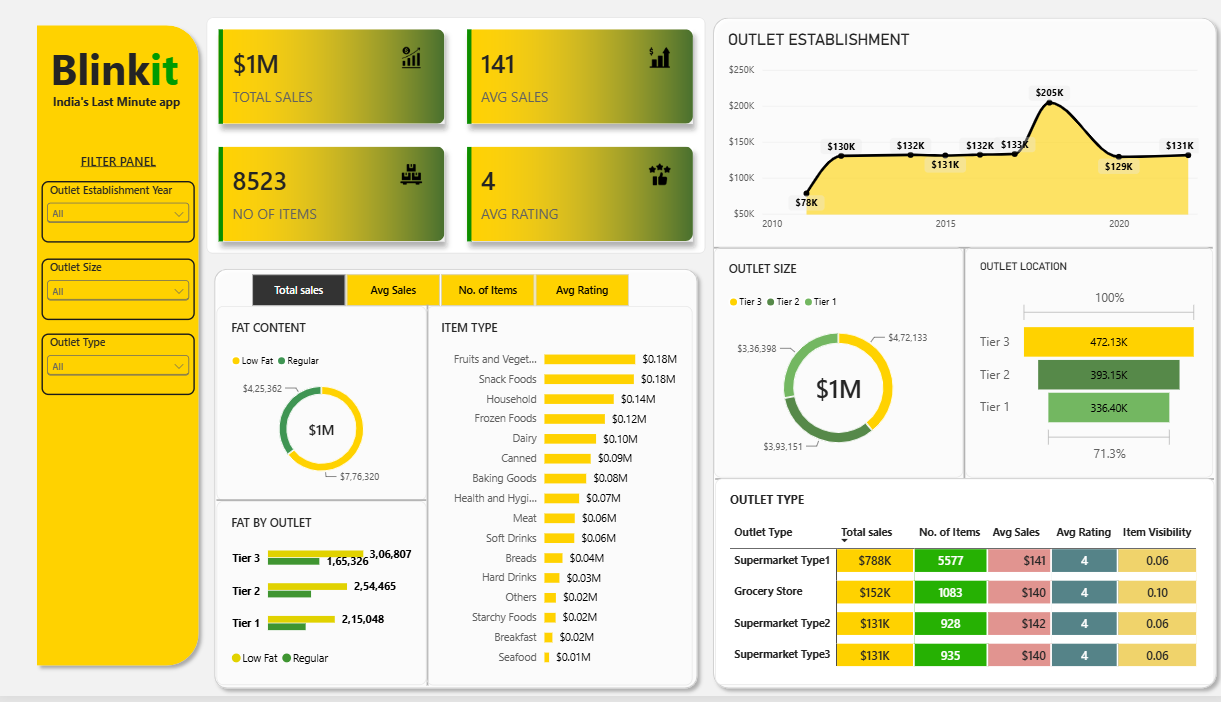

The dashboard page shown, as its layout file describes it:
{"tool":"powerbi","page":{"name":"Page 1","canvas":[1400,800],"ordinal":0},"visuals":[{"type":"shape","box":[34.3,24.3,202.9,750],"z":0},{"type":"textbox","box":[58.8,49.4,153.8,71.9],"z":1000},{"type":"textbox","box":[61.9,110.6,146.9,21.2],"z":2000},{"type":"cardVisual","fields":{"Data":["BlinkIT Grocery Data.Total sales","BlinkIT Grocery Data.Avg Sales","BlinkIT Grocery Data.No. of Items","BlinkIT Grocery Data.Avg Rating"]},"box":[236.7,24.4,570,270],"z":3000},{"type":"shape","box":[237.5,302.5,570,497.5],"z":4000},{"type":"donutChart","title":"FAT CONTENT","fields":{"Category":["BlinkIT Grocery Data.Item Fat Content"],"Y":["BlinkIT Grocery Data.Total sales"]},"box":[248.8,355,240,222.5],"z":5000},{"type":"slicer","fields":{"Values":["Metrics.Metrics"]},"box":[269,315,470,40],"z":6000},{"type":"clusteredBarChart","title":"FAT BY OUTLET","fields":{"Category":["BlinkIT Grocery Data.Outlet Location Type"],"Series":["BlinkIT Grocery Data.Item Fat Content"],"Y":["BlinkIT Grocery Data.Total sales"]},"box":[248.8,577.5,240,210],"z":7000},{"type":"shape","box":[248.9,570,240,12.2],"z":8000},{"type":"shape","box":[485,353,8,435],"z":9000},{"type":"barChart","title":"ITEM TYPE","fields":{"Category":["BlinkIT Grocery Data.Item Type"],"Y":["BlinkIT Grocery Data.Total sales"]},"box":[488.8,353.8,303.8,433.8],"z":10000},{"type":"shape","box":[806.7,15.6,593.3,784.4],"z":11000},{"type":"lineChart","title":"OUTLET ESTABLISHMENT","fields":{"Category":["BlinkIT Grocery Data.Outlet Establishment Year"],"Y":["BlinkIT Grocery Data.Total sales"]},"box":[817.5,24.4,570,263.1],"z":12000},{"type":"shape","box":[817.5,281.7,570,12.5],"z":13000},{"type":"donutChart","title":"OUTLET SIZE","fields":{"Category":["BlinkIT Grocery Data.Outlet Location Type"],"Y":["BlinkIT Grocery Data.Total sales"]},"box":[817.8,287.8,284.4,263.3],"z":14000},{"type":"shape","box":[1096.9,288.1,12.4,262.9],"z":15000},{"type":"funnel","title":"OUTLET LOCATION","fields":{"Category":["BlinkIT Grocery Data.Outlet Location Type"],"Y":["Sum(BlinkIT Grocery Data.Sales)"]},"box":[1104.4,287.8,283.3,263.3],"z":15001},{"type":"shape","box":[818.9,545.6,570,12.5],"z":15002},{"type":"pivotTable","title":"OUTLET TYPE","fields":{"Rows":["BlinkIT Grocery Data.Outlet Type"],"Values":["BlinkIT Grocery Data.Total sales","BlinkIT Grocery Data.No. of Items","BlinkIT Grocery Data.Avg Sales","BlinkIT Grocery Data.Avg Rating","Avg(BlinkIT Grocery Data.Item Visibility)"]},"box":[818.8,551.9,570,235.6],"z":15003},{"type":"slicer","fields":{"Values":["BlinkIT Grocery Data.Outlet Establishment Year"]},"box":[48.3,211.7,175,70],"z":15004},{"type":"slicer","fields":{"Values":["BlinkIT Grocery Data.Outlet Size"]},"box":[48.3,300,175,70],"z":15005},{"type":"slicer","fields":{"Values":["BlinkIT Grocery Data.Outlet Type"]},"box":[48.3,385,175,70],"z":15006},{"type":"textbox","box":[91.7,178.3,90,21.7],"z":15007}]}

Visuals, with their boxes in screenshot pixels (x1, y1, x2, y2), scaled from the page's 1400x800 canvas onto the 1221x702 screenshot:
shape: bbox=[30, 21, 207, 679]
textbox: bbox=[51, 43, 185, 106]
textbox: bbox=[54, 97, 182, 116]
cardVisual - BlinkIT Grocery Data.Total sales x BlinkIT Grocery Data.Avg Sales: bbox=[206, 21, 704, 258]
shape: bbox=[207, 265, 704, 701]
"FAT CONTENT" donutChart: bbox=[217, 312, 426, 507]
slicer - Metrics.Metrics: bbox=[235, 276, 645, 312]
"FAT BY OUTLET" clusteredBarChart: bbox=[217, 507, 426, 691]
shape: bbox=[217, 500, 426, 511]
shape: bbox=[423, 310, 430, 691]
"ITEM TYPE" barChart: bbox=[426, 310, 691, 691]
shape: bbox=[704, 14, 1220, 701]
"OUTLET ESTABLISHMENT" lineChart: bbox=[713, 21, 1210, 252]
shape: bbox=[713, 247, 1210, 258]
"OUTLET SIZE" donutChart: bbox=[713, 253, 961, 484]
shape: bbox=[957, 253, 967, 484]
"OUTLET LOCATION" funnel: bbox=[963, 253, 1210, 484]
shape: bbox=[714, 479, 1211, 490]
"OUTLET TYPE" pivotTable: bbox=[714, 484, 1211, 691]
slicer - BlinkIT Grocery Data.Outlet Establishment Year: bbox=[42, 186, 195, 247]
slicer - BlinkIT Grocery Data.Outlet Size: bbox=[42, 263, 195, 325]
slicer - BlinkIT Grocery Data.Outlet Type: bbox=[42, 338, 195, 399]
textbox: bbox=[80, 156, 158, 176]
